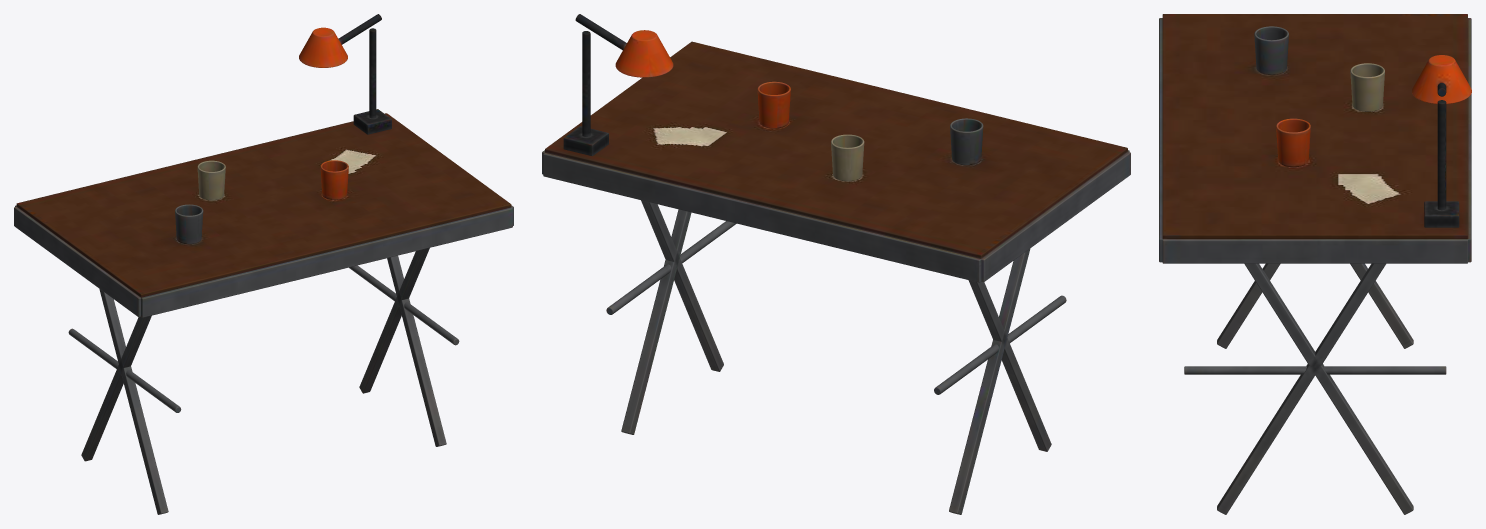
File: folding_table.glb
3 views of the same model, side by side, from view 1: azimuth 30°, elevation 25°; view 2: azimuth 150°, elevation 25°; view 3: azimuth 270°, elevation 25° (orthographic). The views are drawn at different scales.
Visible parts, largest first — view 1: folding_table; view 2: folding_table; view 3: folding_table.
Part boxes in pixels (left/top/right/bottom): folding_table: left=14, top=14, right=513, bottom=514; folding_table: left=542, top=14, right=1130, bottom=514; folding_table: left=1159, top=14, right=1471, bottom=514.
Size of the model in its own units: 1.22 by 1.12 by 0.7167.
1 material, 1 textured.
